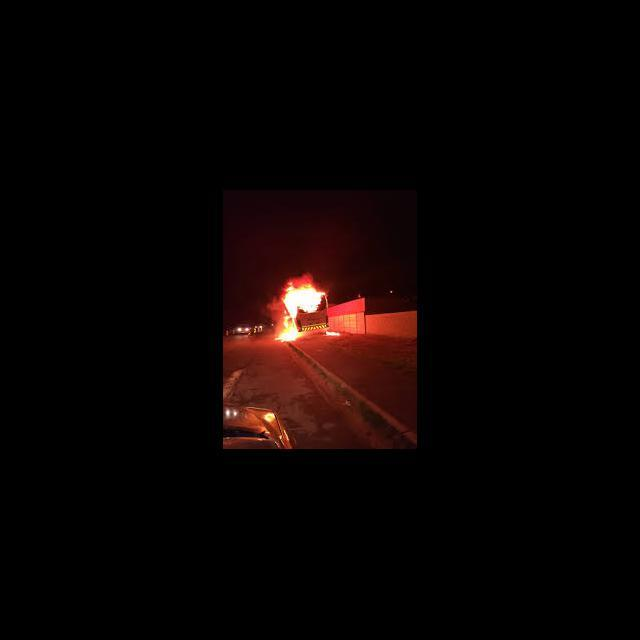Fire: (272, 272, 331, 344)
Smoke: (232, 217, 356, 270)
